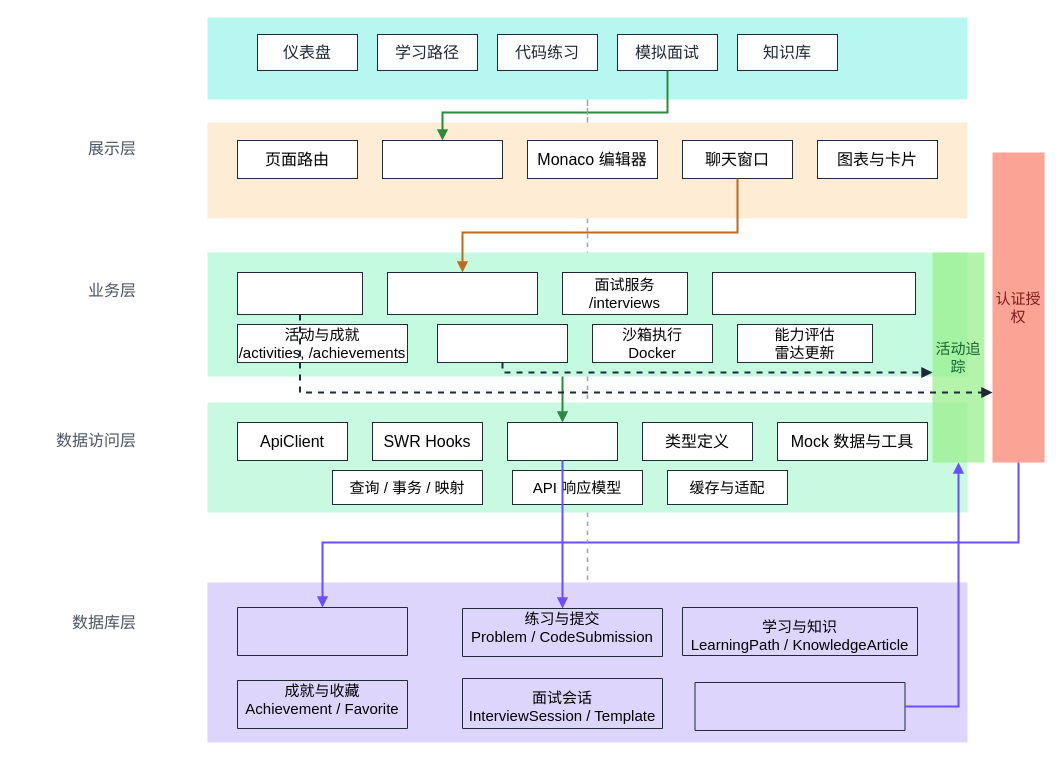
Some shapes in this 1061 by 759 pixel diagram are drawn without their labels. Here are the shapes that lost their labels. From the top down, the centre of each, then its label:
At [442,159]: "布局组件".
At [299,293]: "认证接口 /auth".
At [462,293]: "练习与提交 /code, /problems".
At [814,293]: "学习与知识 /learning-paths, /knowledge".
At [502,343]: "AI 集成 Coze / SSE".
At [562,441]: "Prisma ORM".
At [322,631]: "用户与认证 User / Account / Session".
At [799,706]: "能力与活动 CapabilityRadar / ActivityLog".
